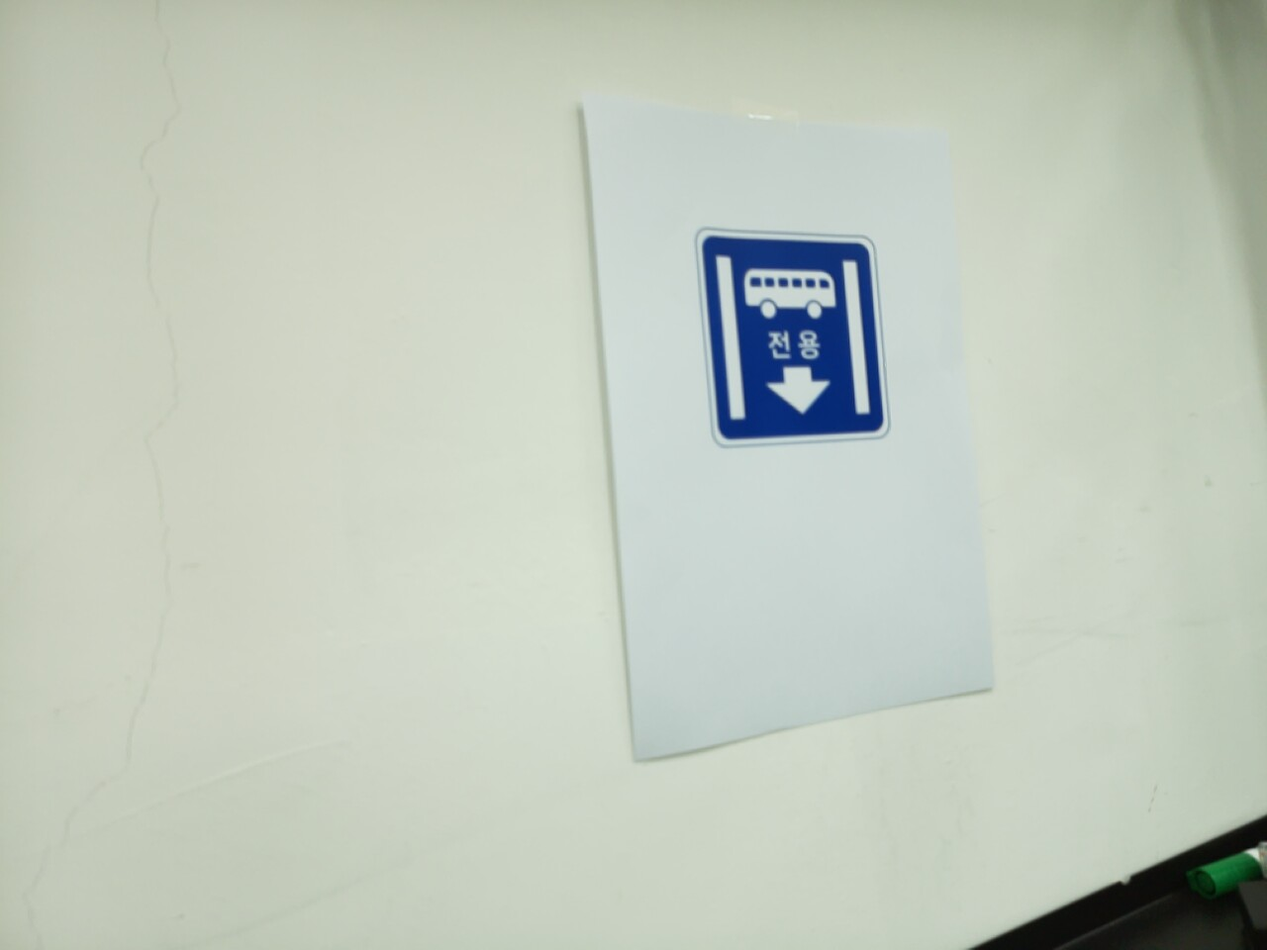bus_only_lane: (695, 228, 891, 447)
